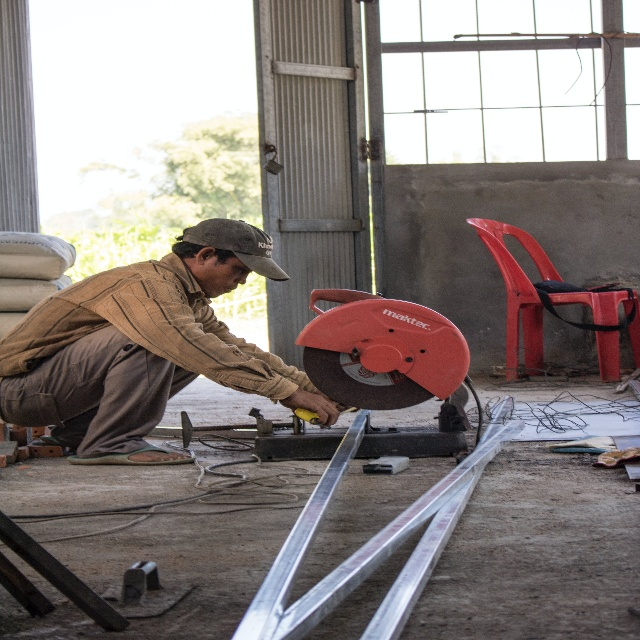Sin_guantes: (277, 387, 339, 431)
